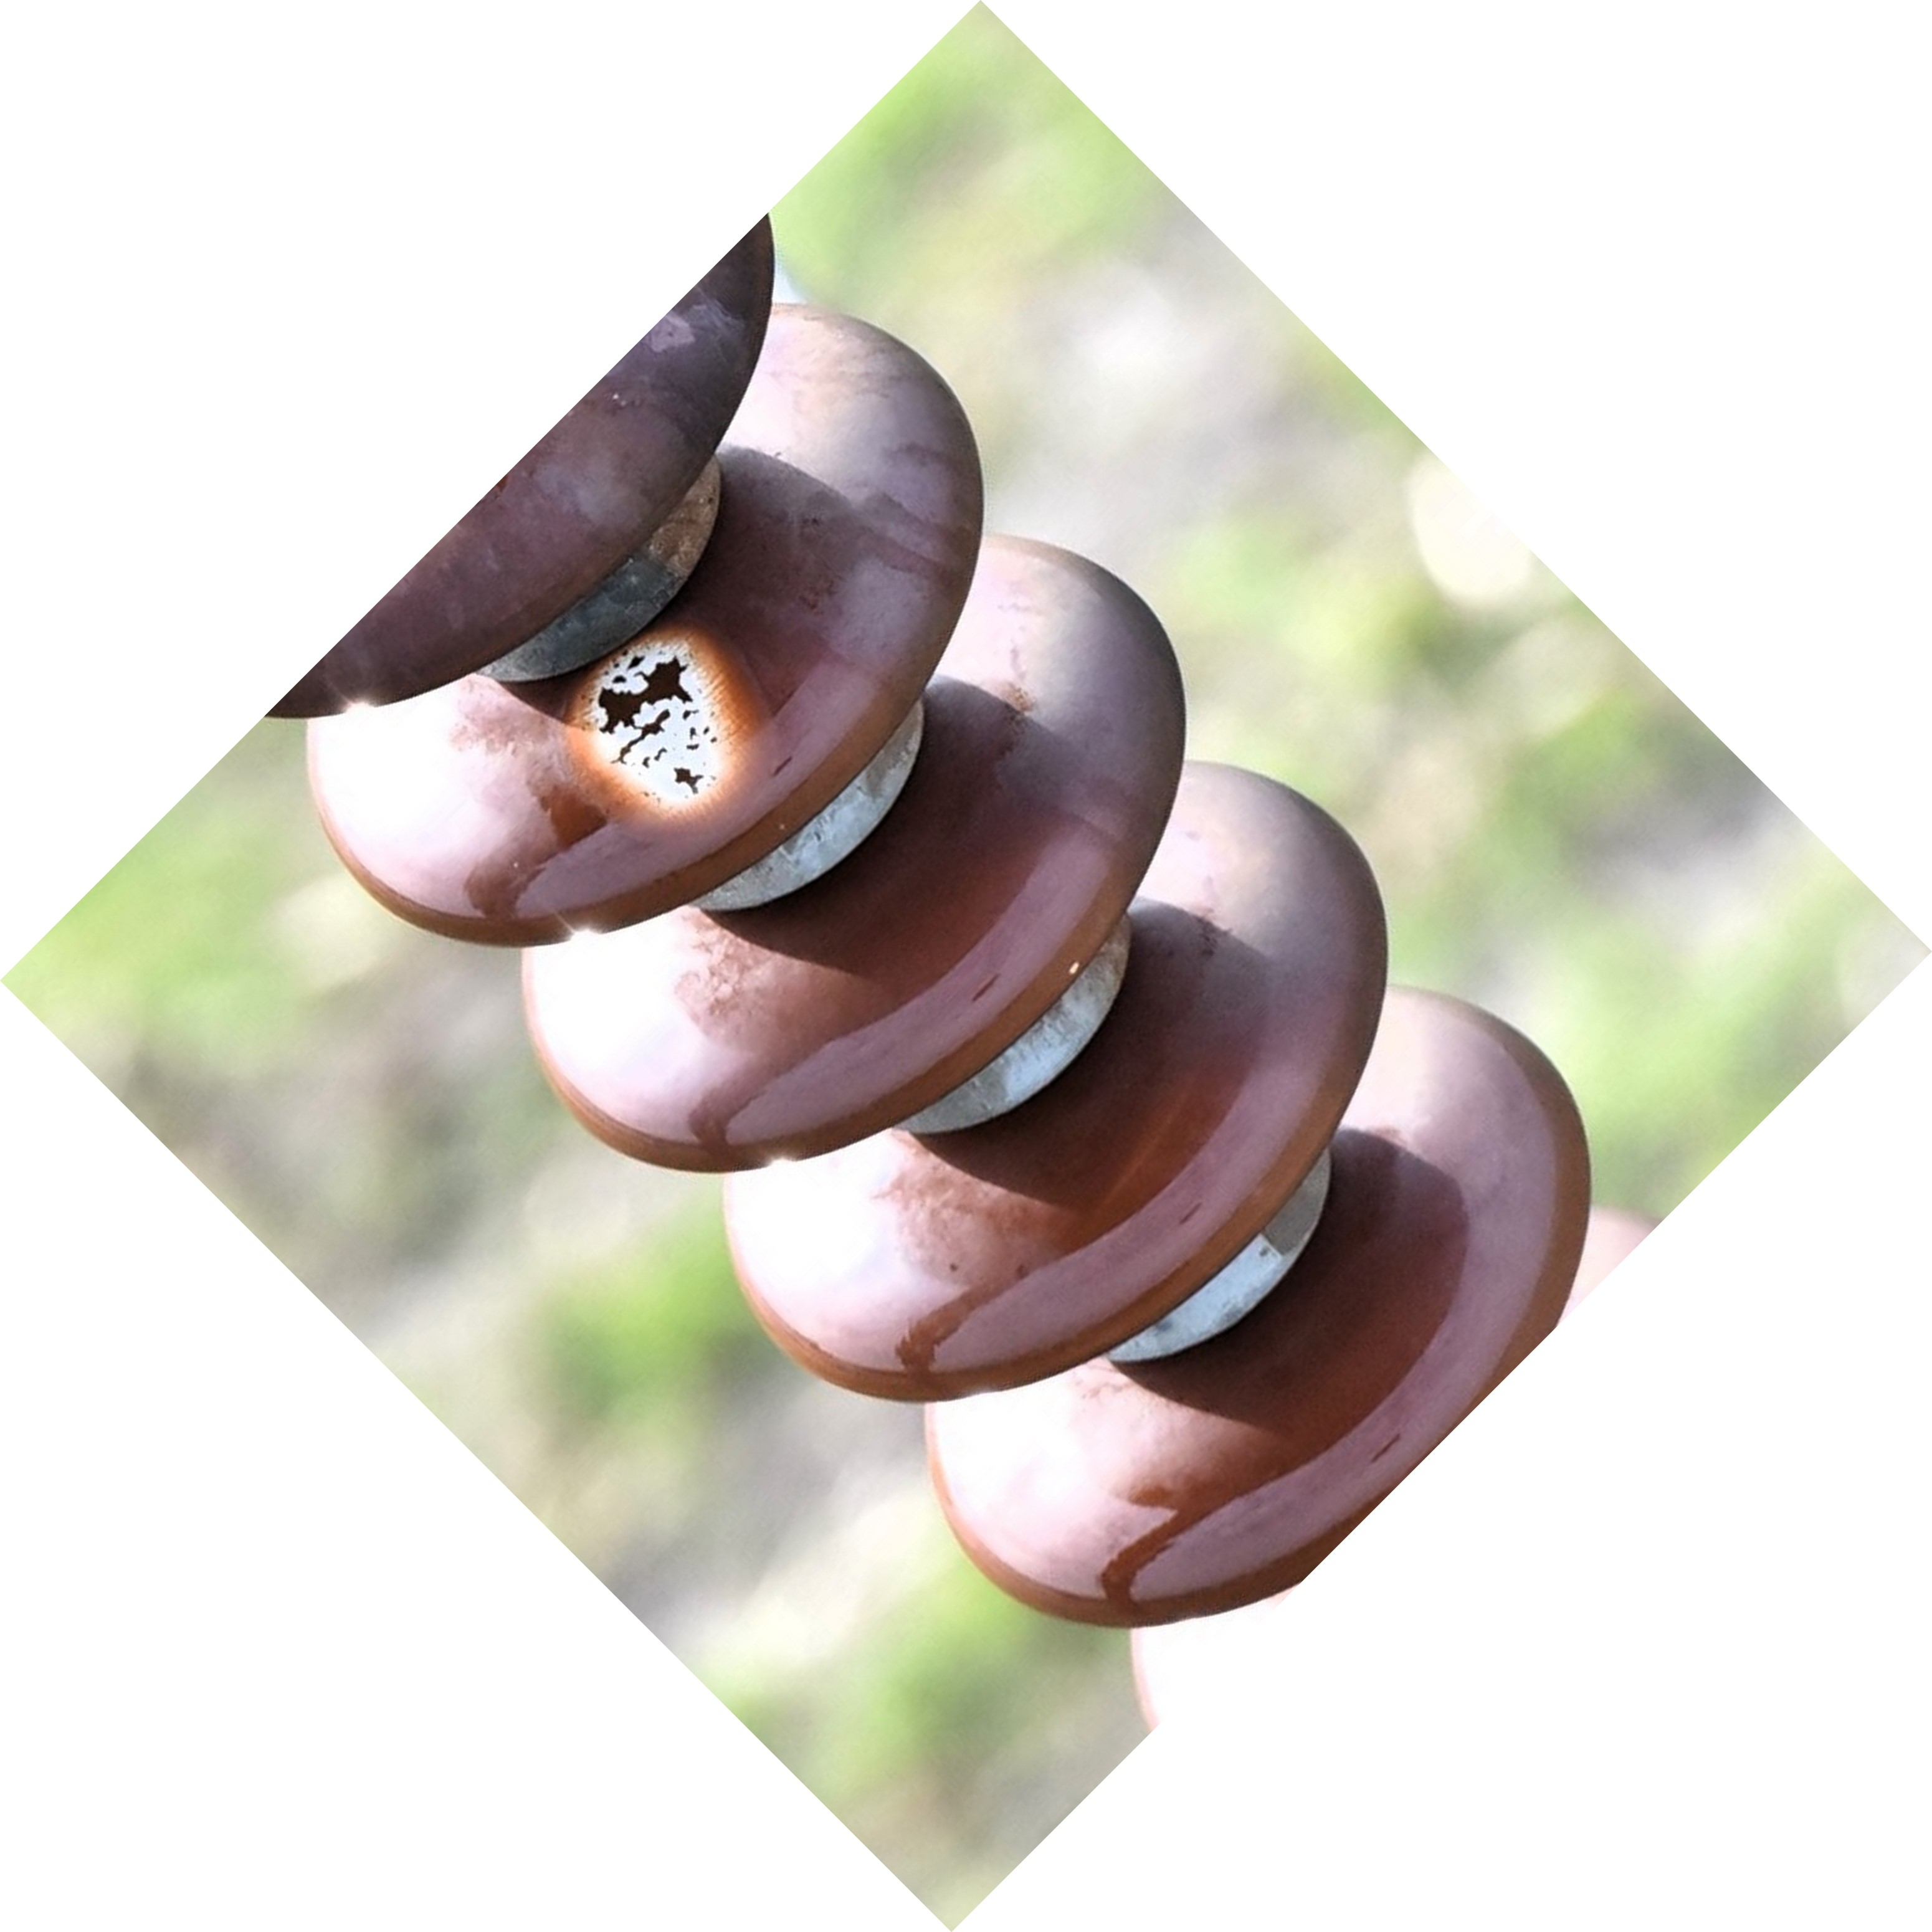Insulator flashover: (287, 285, 1024, 959)
